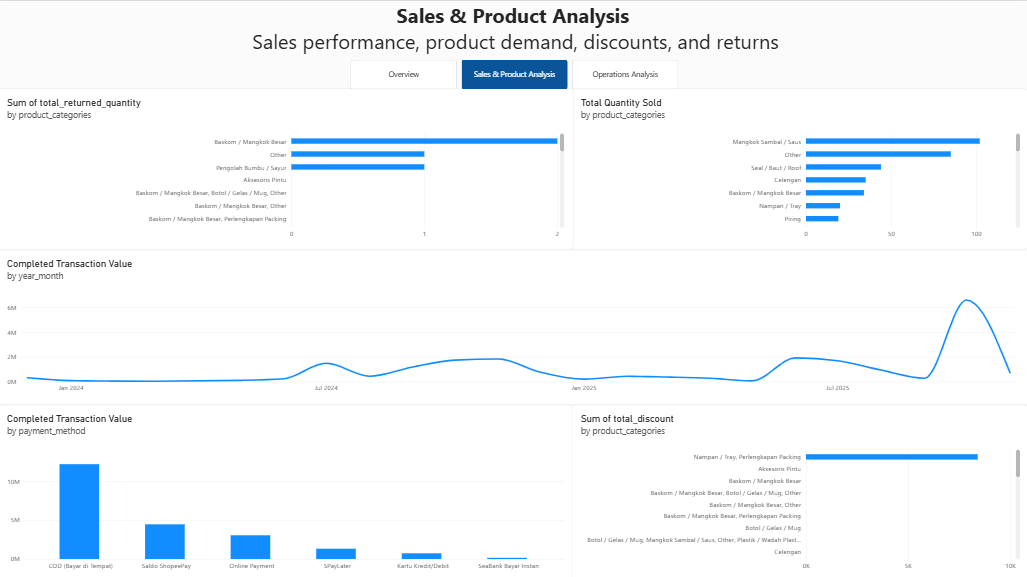

What the dashboard file says about the page in this screenshot:
{"tool":"powerbi","page":{"name":"Sales & Product Analysis","canvas":[1920,1080],"ordinal":1},"visuals":[{"type":"lineChart","fields":{"Category":["cleaned_ecommerce_data.year_month"],"Y":["cleaned_ecommerce_data.Completed Transaction Value"]},"box":[0,463.4,1922,287.8],"z":0},{"type":"clusteredColumnChart","fields":{"Category":["cleaned_ecommerce_data.payment_method"],"Y":["cleaned_ecommerce_data.Completed Transaction Value"]},"box":[0,751.2,1070.7,329.3],"z":1000},{"type":"clusteredBarChart","fields":{"Category":["cleaned_ecommerce_data.product_categories"],"Y":["Sum(cleaned_ecommerce_data.total_discount)"]},"box":[1068.3,751.2,851.2,329.3],"z":2000},{"type":"clusteredBarChart","fields":{"Category":["cleaned_ecommerce_data.product_categories"],"Y":["cleaned_ecommerce_data.Total Quantity Sold"]},"box":[1068.3,163.4,851.2,300],"z":3000},{"type":"clusteredBarChart","fields":{"Category":["cleaned_ecommerce_data.product_categories"],"Y":["Sum(cleaned_ecommerce_data.total_returned_quantity)"]},"box":[0,163.4,1070.7,300],"z":4000},{"type":"textbox","box":[95,0,1725,290],"z":5000},{"type":"textbox","box":[0,23,188,150],"z":6000},{"type":"pageNavigator","box":[655,110,611.1,55.6],"z":9000}]}

Visuals, with their boxes in screenshot pixels (x1, y1, x2, y2), scaled from the page's 1920x1080 canvas onto the 1027x577 screenshot:
lineChart - cleaned_ecommerce_data.year_month x cleaned_ecommerce_data.Completed Transaction Value: (0,248,1026,401)
clusteredColumnChart - cleaned_ecommerce_data.payment_method x cleaned_ecommerce_data.Completed Transaction Value: (0,401,573,576)
clusteredBarChart - cleaned_ecommerce_data.product_categories x Sum(cleaned_ecommerce_data.total_discount): (571,401,1026,576)
clusteredBarChart - cleaned_ecommerce_data.product_categories x cleaned_ecommerce_data.Total Quantity Sold: (571,87,1026,248)
clusteredBarChart - cleaned_ecommerce_data.product_categories x Sum(cleaned_ecommerce_data.total_returned_quantity): (0,87,573,248)
textbox: (51,0,974,155)
textbox: (0,12,101,92)
pageNavigator: (350,59,677,88)
